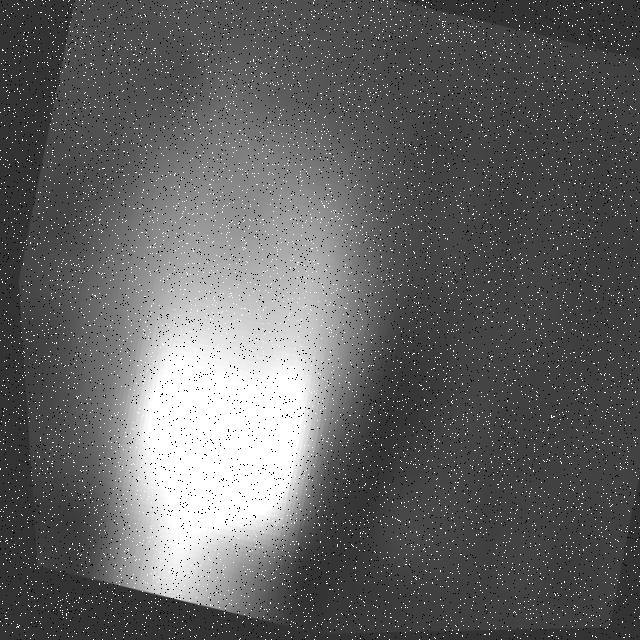person: (26, 47, 427, 634)
